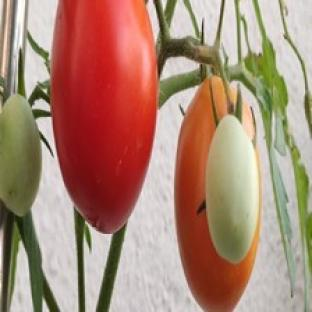Tomato: (175, 77, 260, 311), (0, 95, 41, 217)
